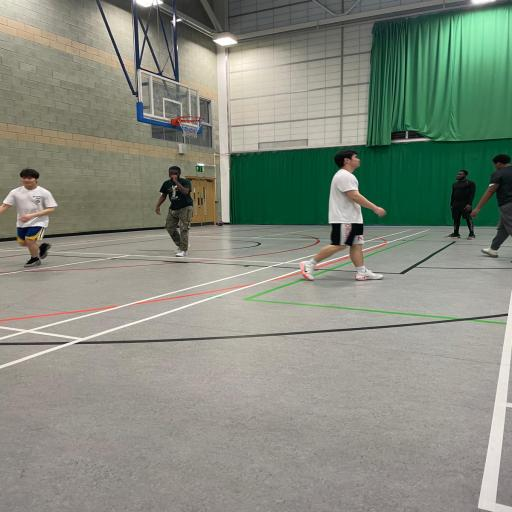hoops: (168, 114, 211, 142)
